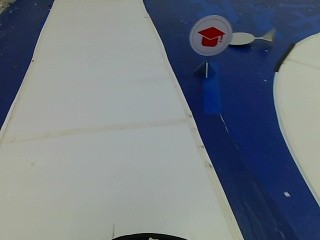school: (187, 12, 231, 57)
